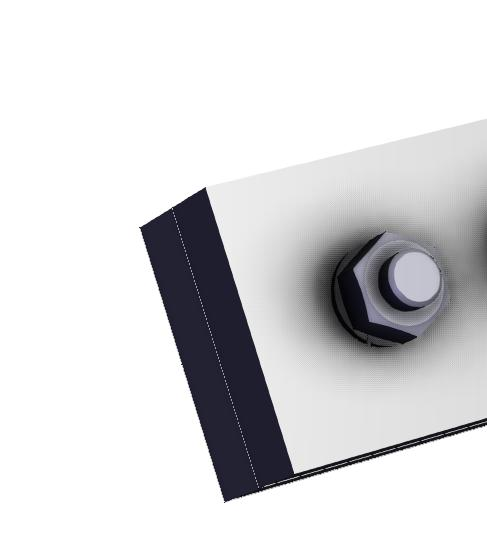bolt_b: (336, 231, 453, 343)
